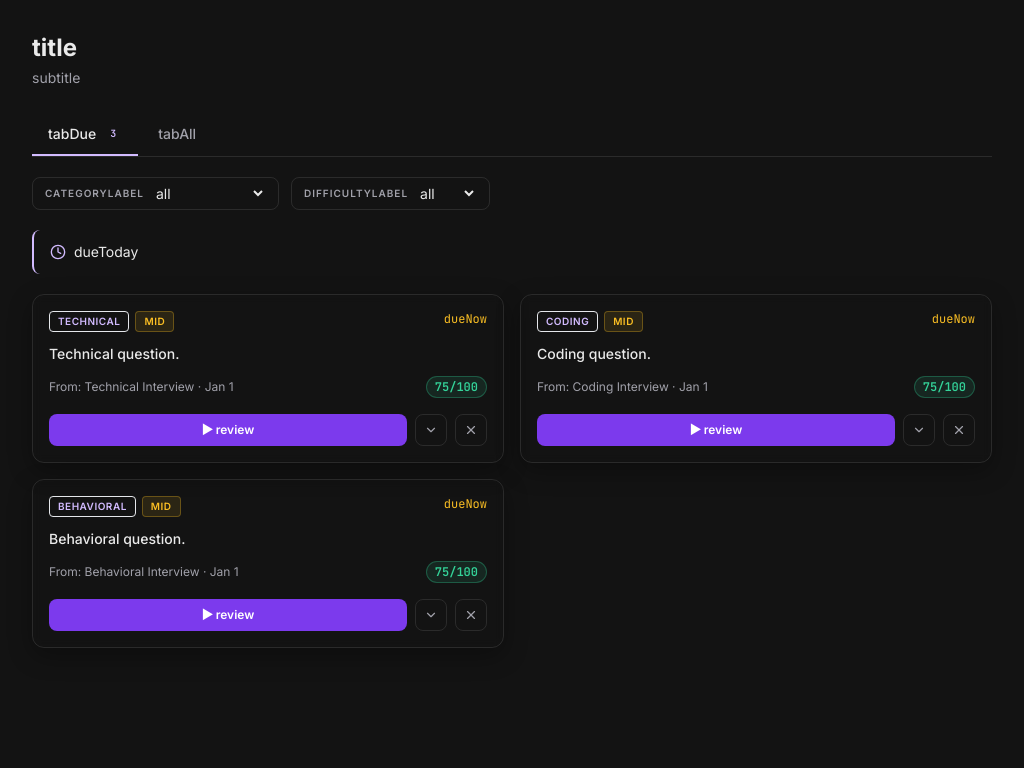
BookmarksClient — category filter › filters by category
Click the button "tabAll".
click(177, 134)  # box [142,114,212,154]
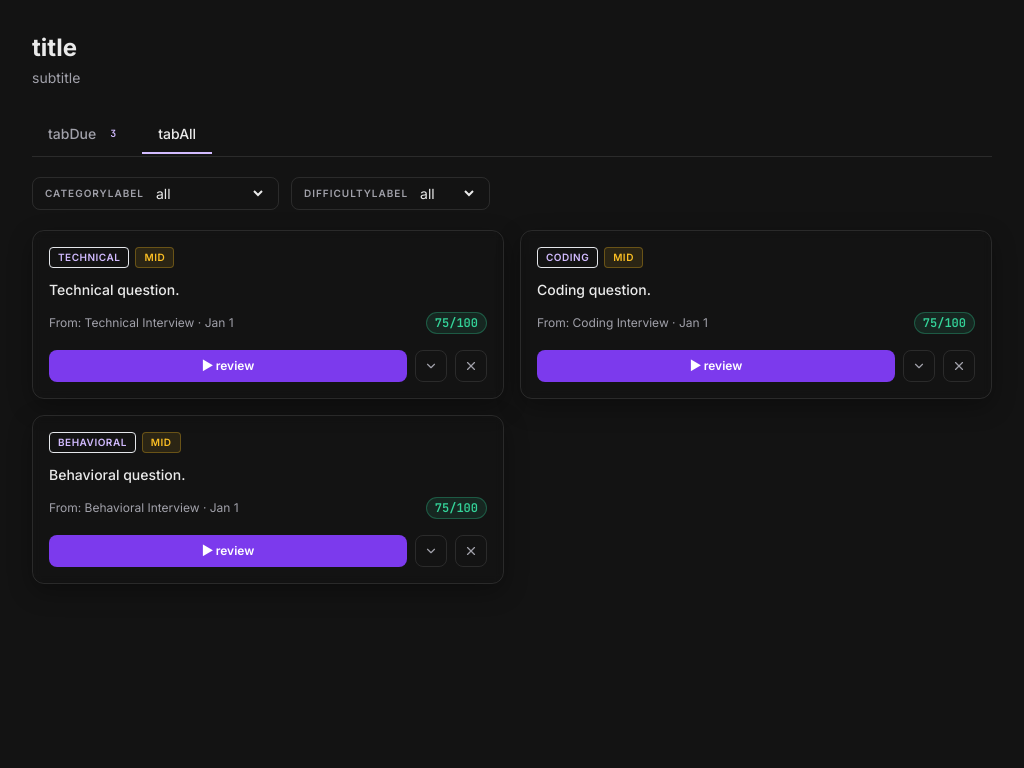
Select "coding" from the category dropdown
Select "coding" in the dropdown next to "categoryLabel" at [209, 194], box [152,184,266,203]
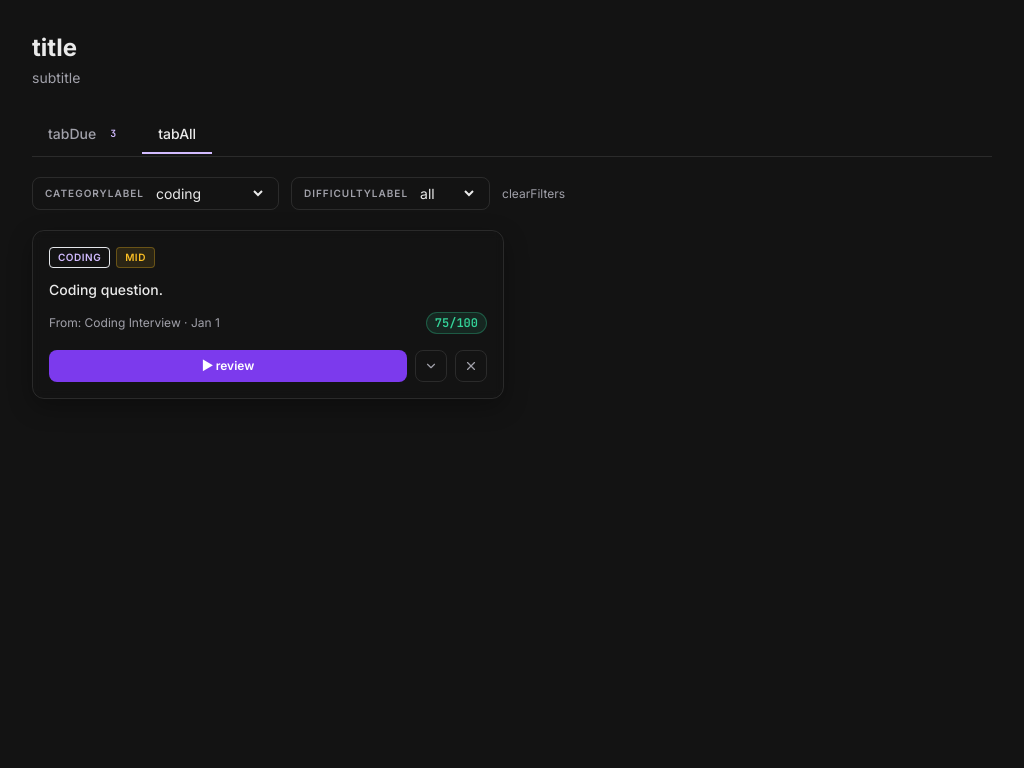
Expected: the text "Coding question." is shown, [49,281,163,298]
Expected: the text "Technical question." is gone
Expected: the text "Behavioral question." is gone
